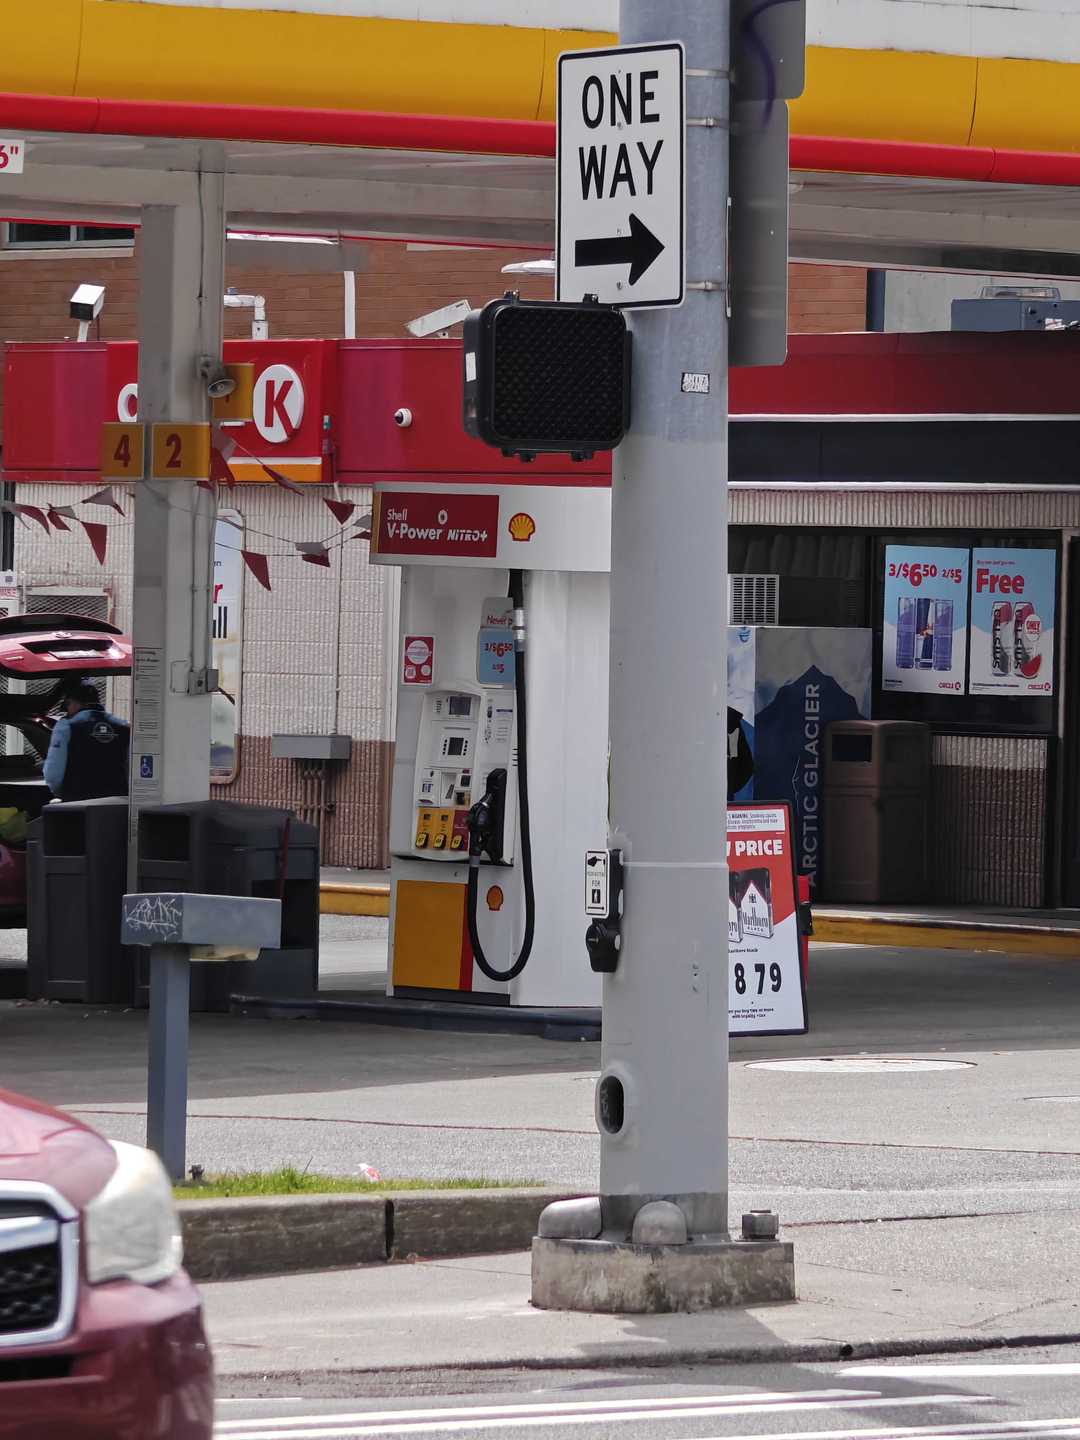ped_button: (584, 848, 623, 972)
